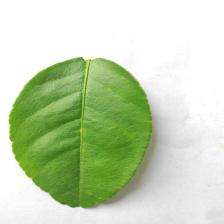greening: (7, 53, 155, 212)
